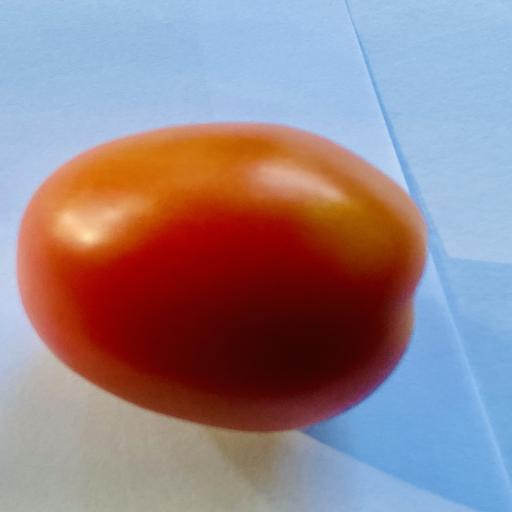ripe: (17, 123, 426, 431)
